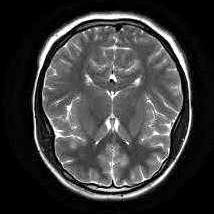Normal_Brain: (3, 1, 214, 214)
